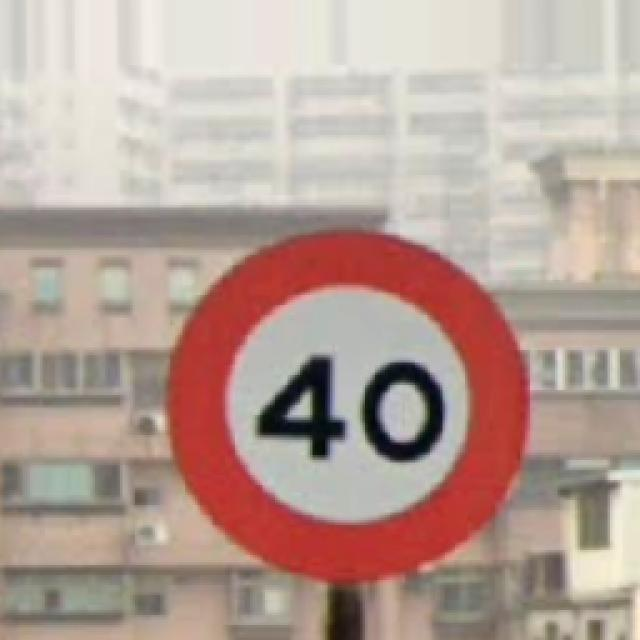Speed Limit -40-: (170, 232, 528, 580)
